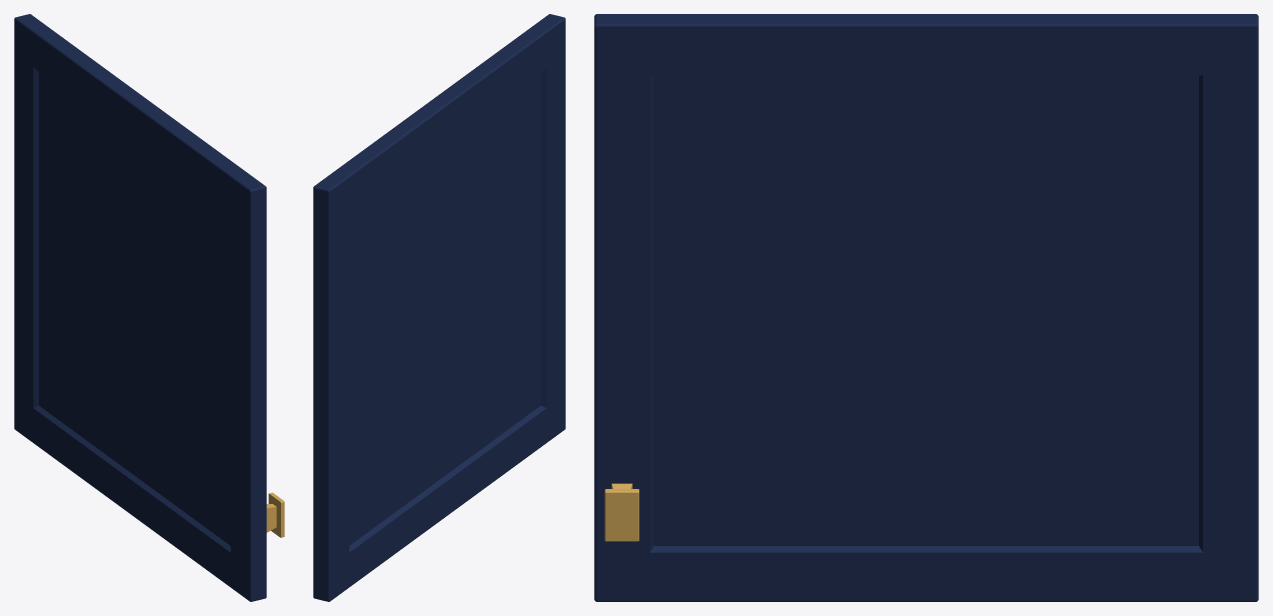
The model's file is cabinet_door_right.glb.
The picture shows the model from 3 angles, left to right: view 1: azimuth 30°, elevation 25°; view 2: azimuth 150°, elevation 25°; view 3: azimuth 270°, elevation 25°; orthographic projection. The views are drawn at different scales.
Bounding box in the file's own units: 0.045 × 0.46 × 0.479.
